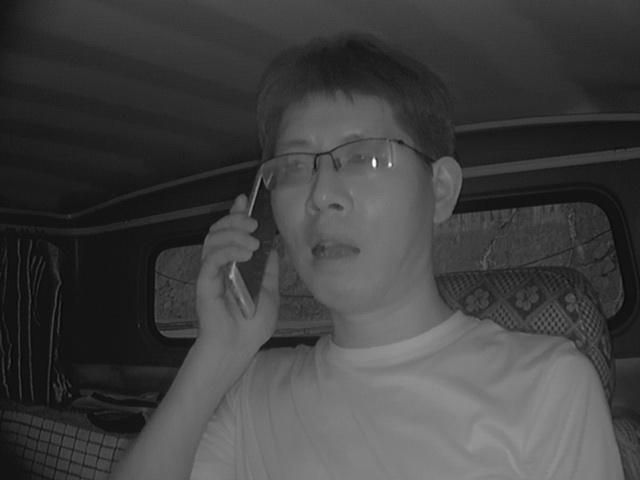hand: (185, 197, 287, 358)
